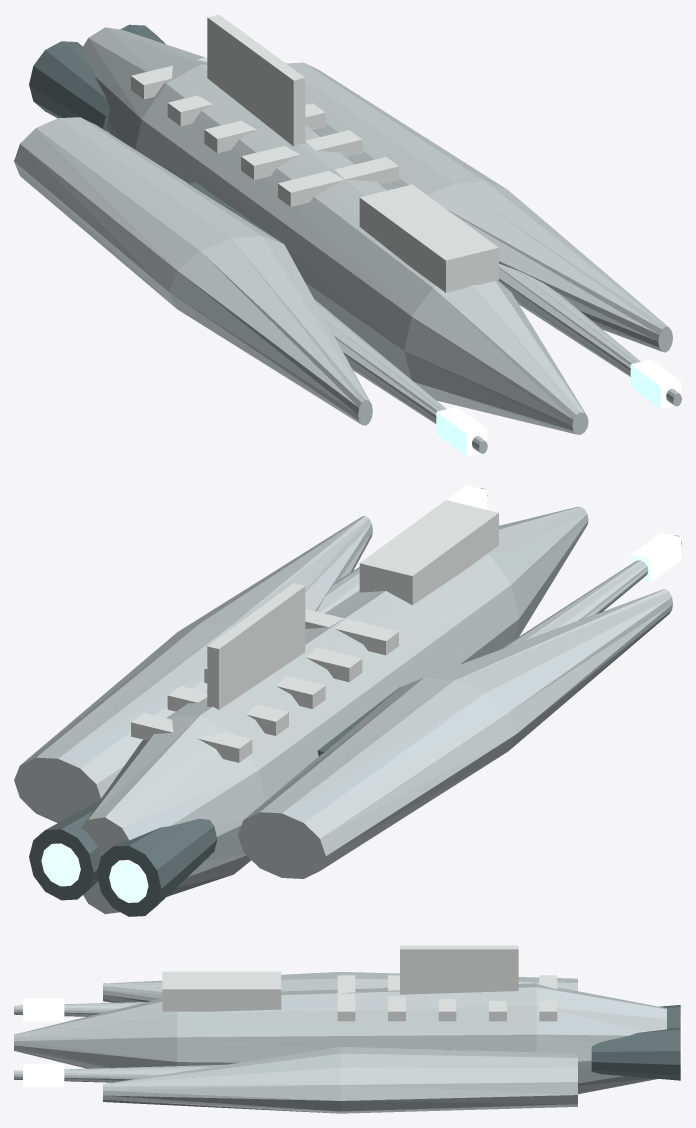
3 renders of one model, top to bottom at view 1: azimuth 30°, elevation 25°; view 2: azimuth 150°, elevation 25°; view 3: azimuth 270°, elevation 25°, orthographic. The views are drawn at different scales.
Bounding box in the file's own units: 1.91 × 1.16 × 4.63.
